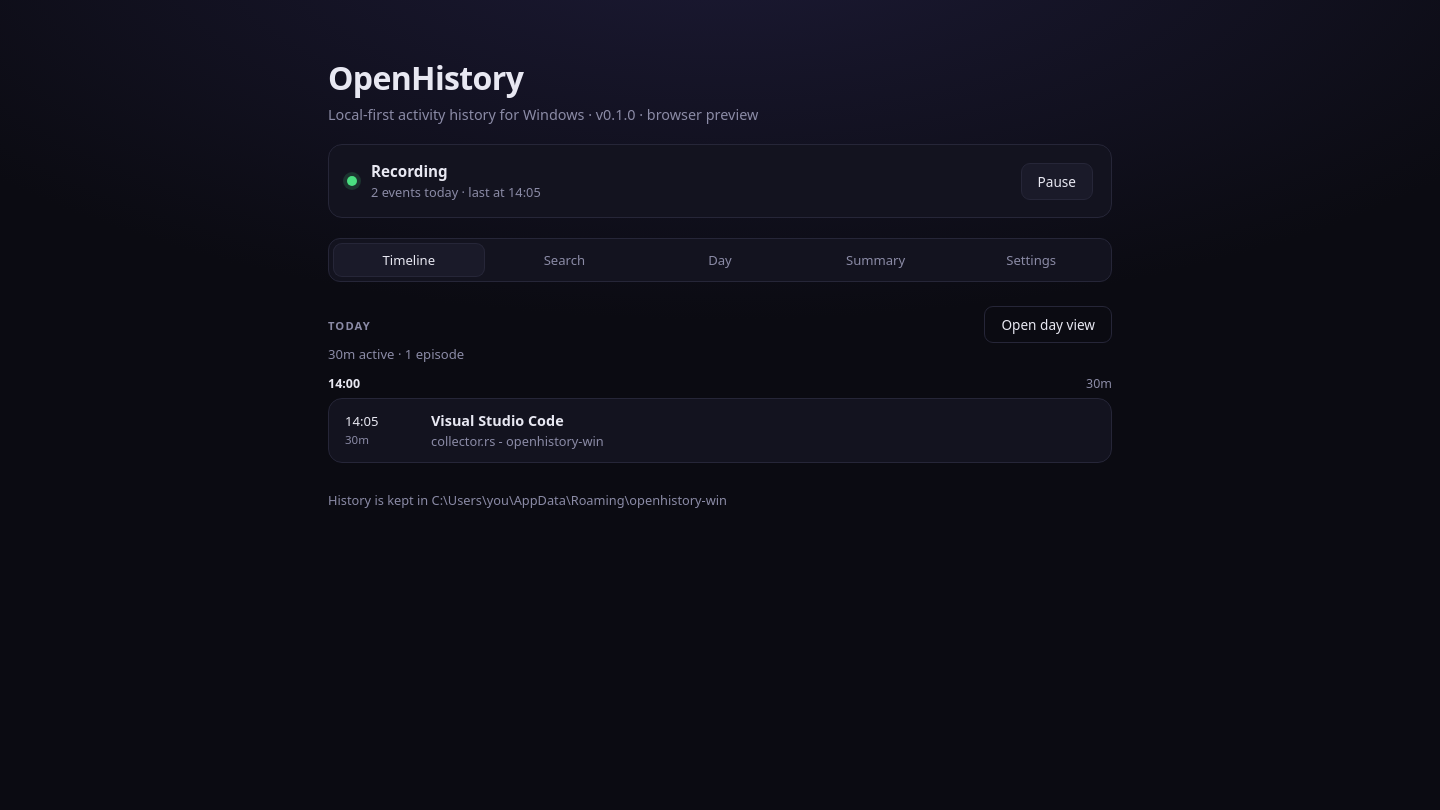
Test: App shell › opens the summary page on the day already being read
What coordinates should you click on to do the following:
click the button "Day"
I would click on:
 (720, 260)
Its box is [644,243,796,277].
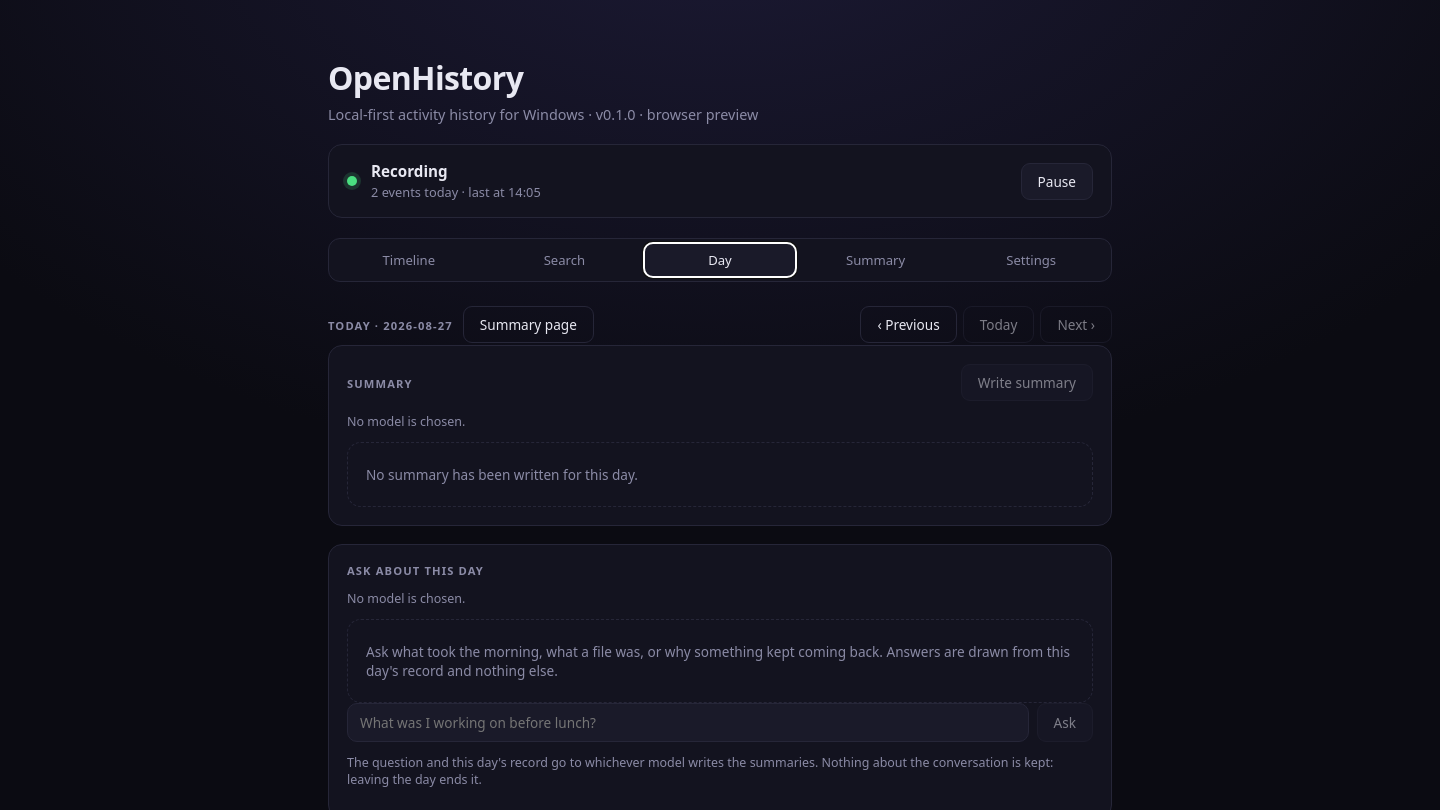
What coordinates should you click on to do the following:
click the button "‹ Previous"
I would click on:
 (909, 324)
Its box is [860,306,957,343].
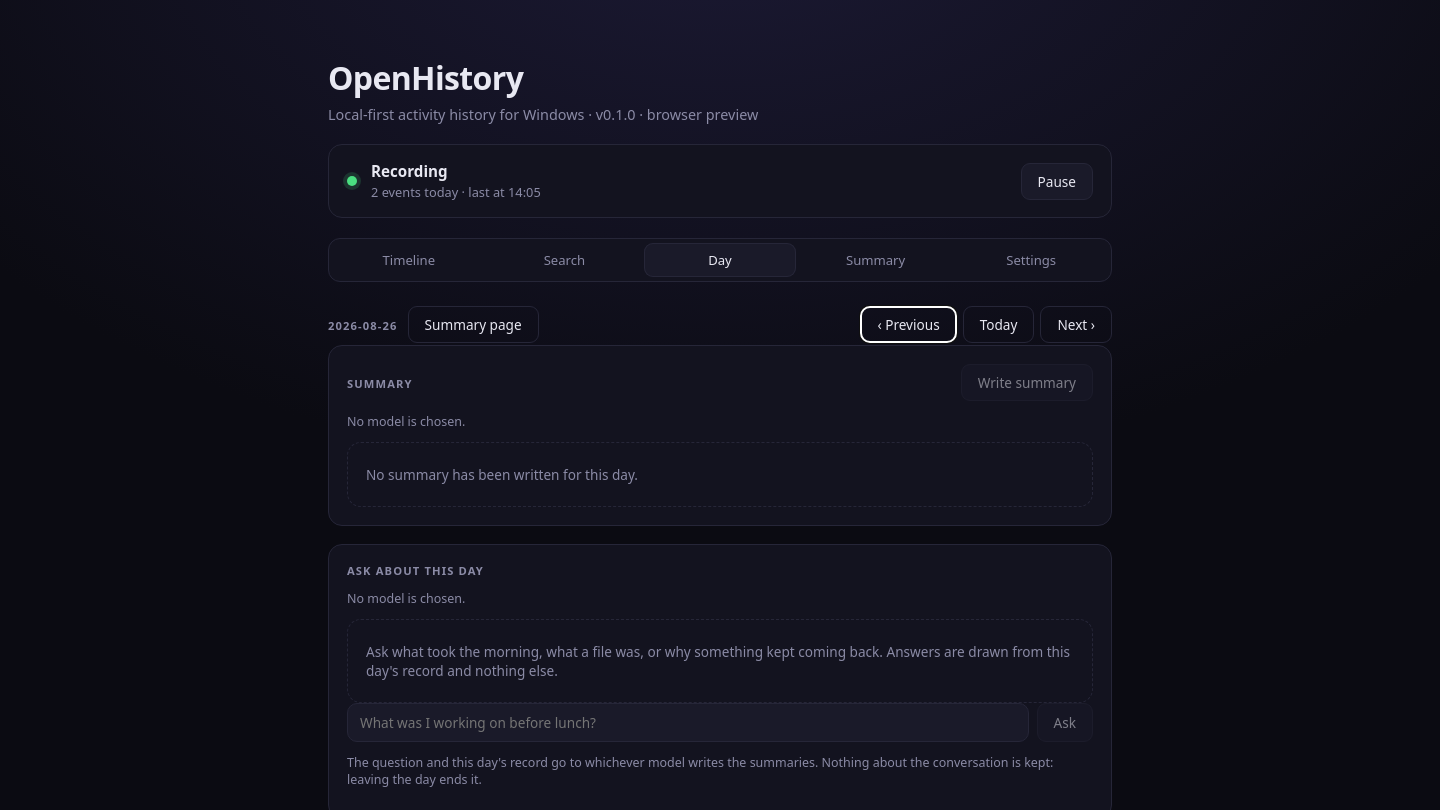
What coordinates should you click on to do the following:
click the button "Summary page"
I would click on:
 (473, 324)
Its box is [408,306,539,343].
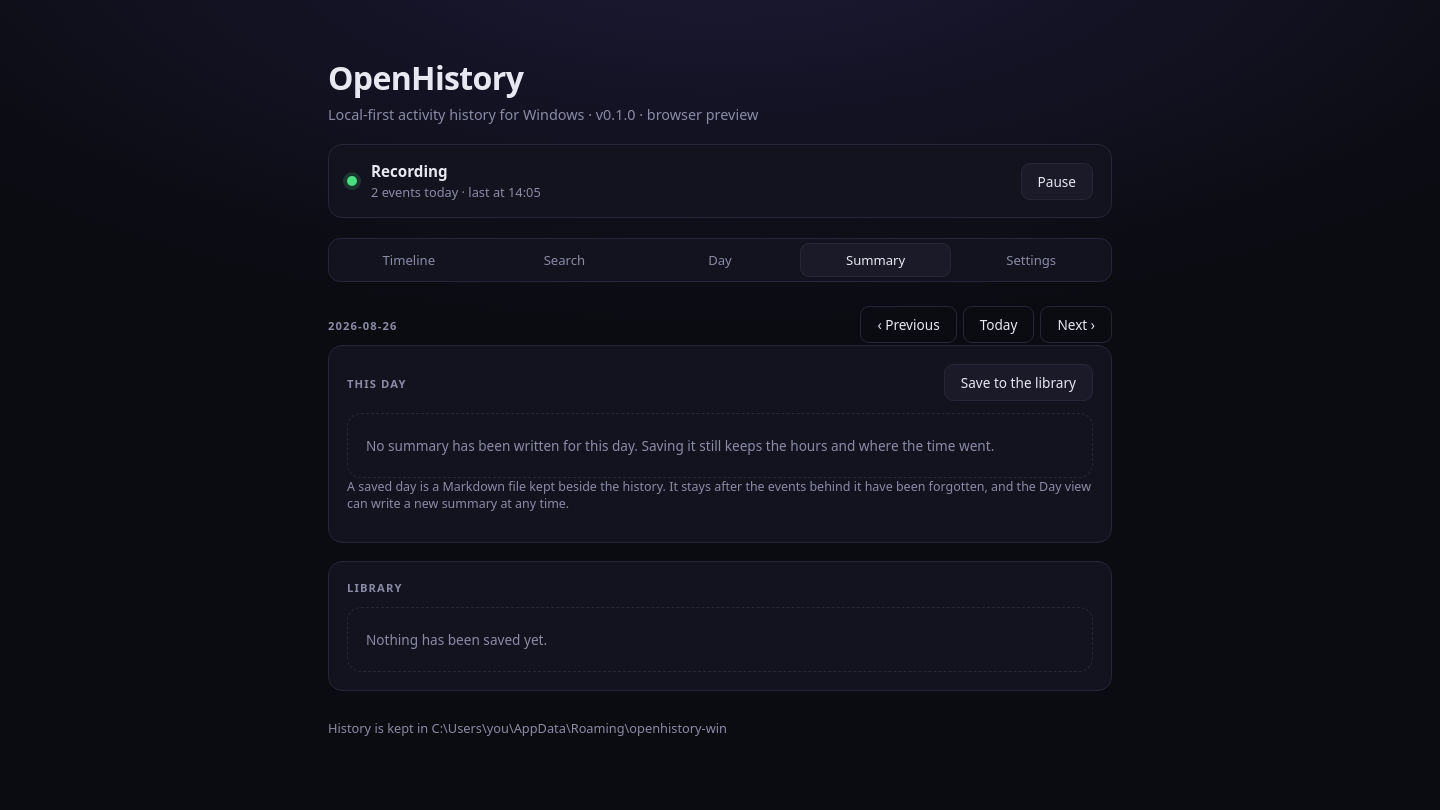
Expected: the element named "Summary view" is shown, [328,306,1112,691]
